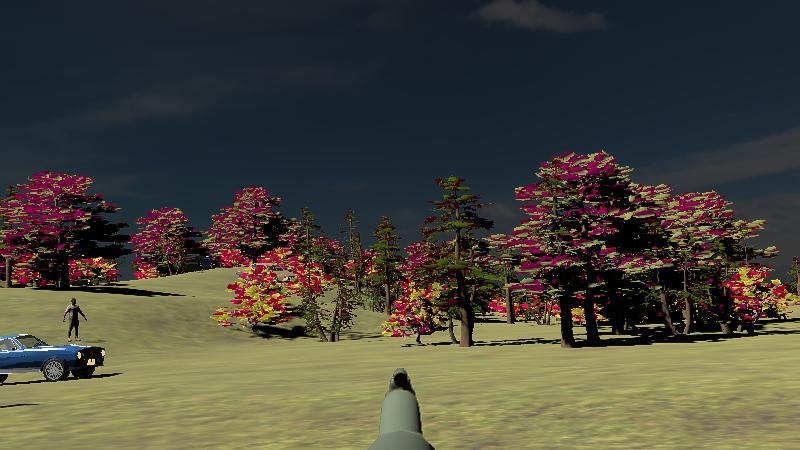car: (0, 332, 106, 388)
